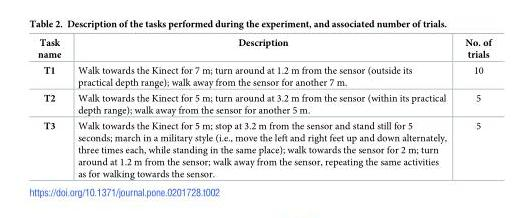table: (37, 37, 490, 178)
table column: (68, 37, 455, 178), (455, 37, 490, 178), (37, 37, 68, 178)
table column header: (37, 37, 490, 62)
table row: (37, 117, 490, 178), (37, 62, 490, 90), (37, 90, 490, 117), (37, 37, 490, 62)
